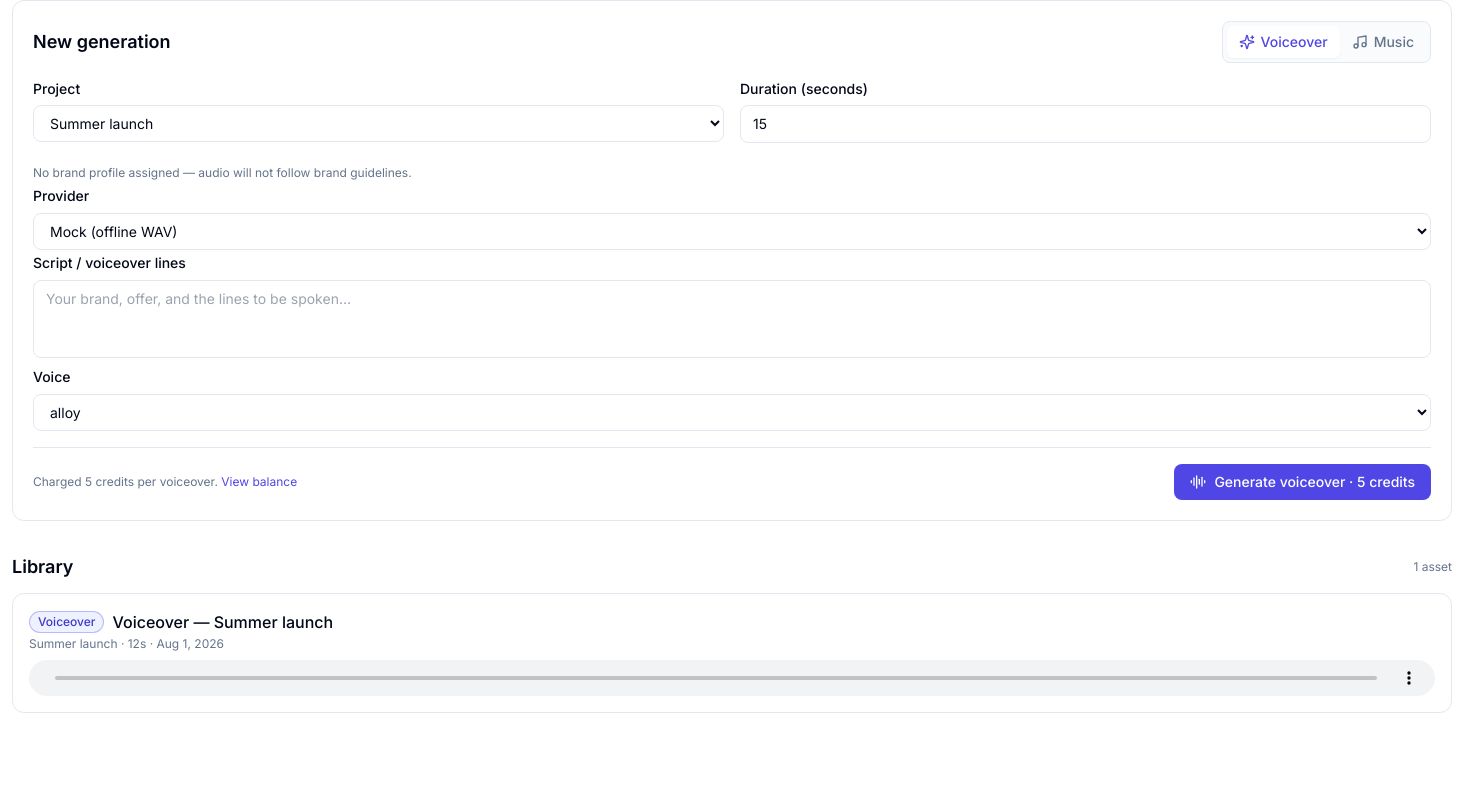
Test case: AudioSuite › re-fetches the brand profile when the project changes
Select "Webinar teaser" in the dropdown labelled "Project" at (378, 124), box left=33, top=105, right=724, bottom=142
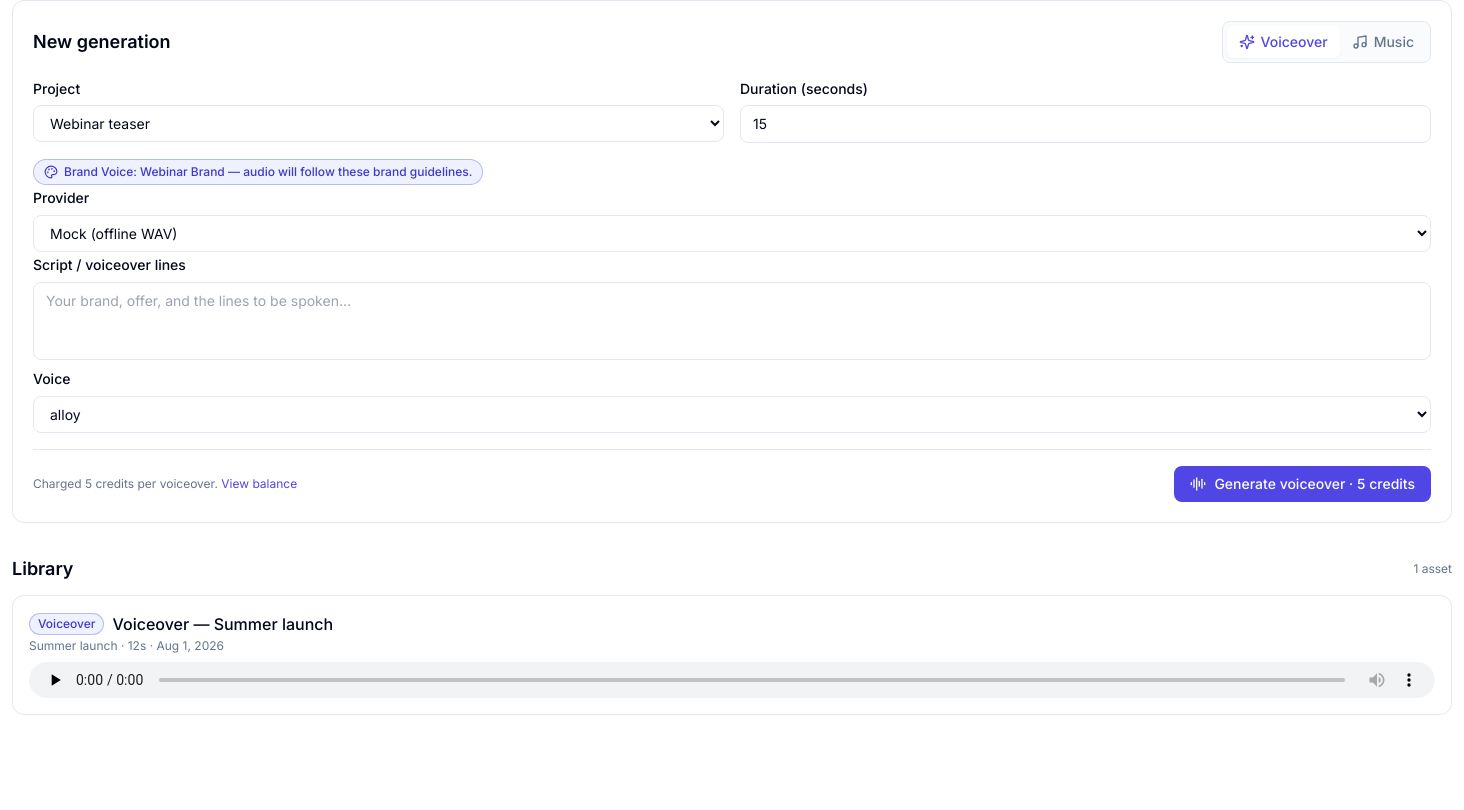
Expected: the text "Brand Voice: Webinar Brand" is shown, left=33, top=159, right=483, bottom=185
